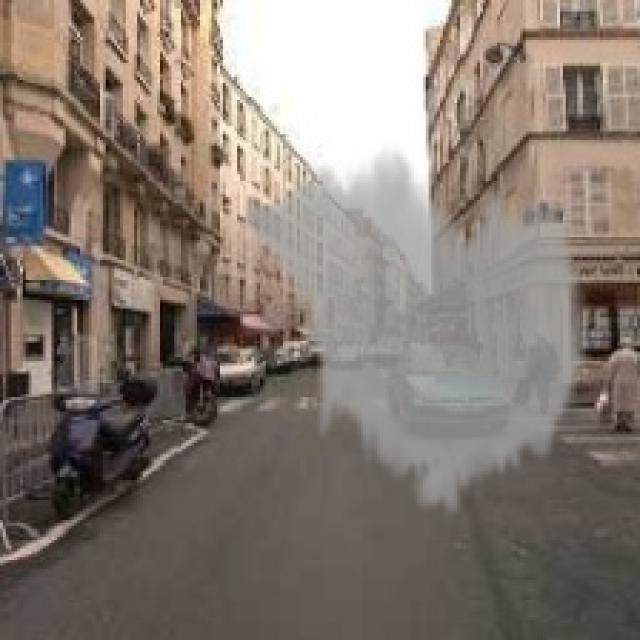smoke: (240, 137, 591, 523)
